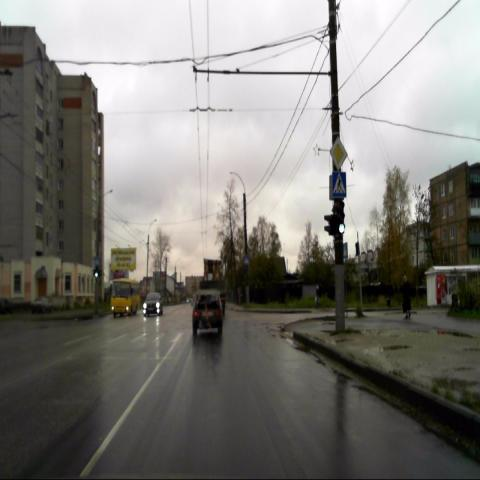2_1: (329, 136, 348, 170)
5_19_1: (332, 172, 346, 197)
